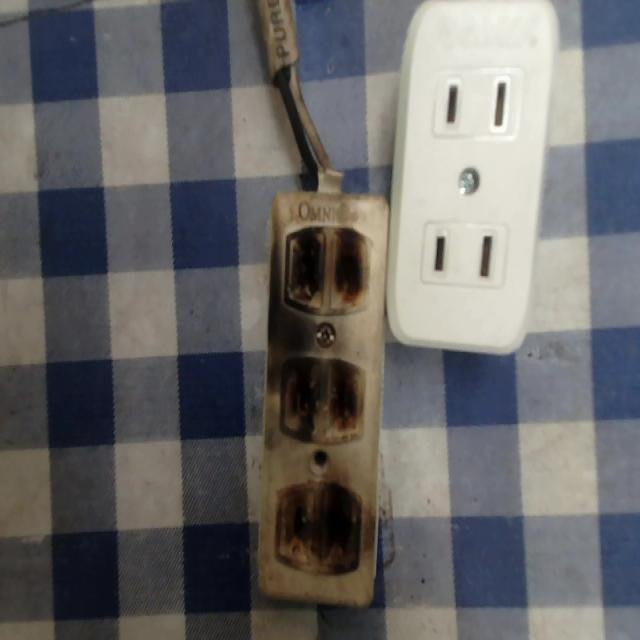-: (271, 478, 363, 574), (281, 220, 373, 315), (279, 354, 358, 442)
